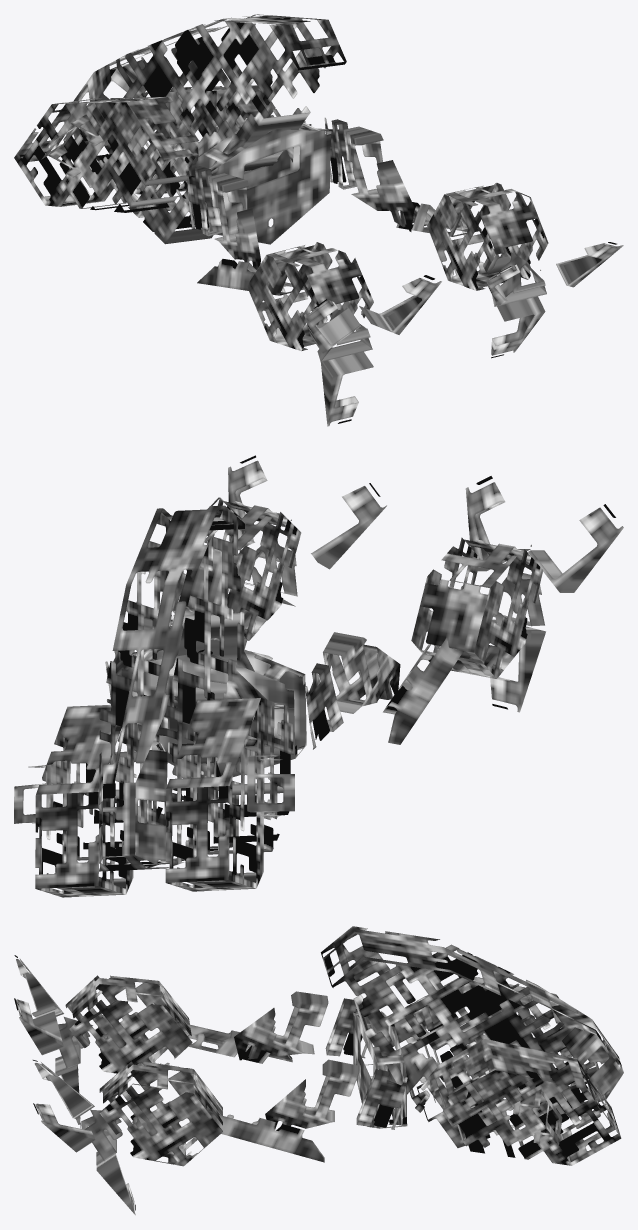
File: vulture_wreck_backward.glb
3 views of the same model, one above another, from view 1: azimuth 30°, elevation 25°; view 2: azimuth 150°, elevation 25°; view 3: azimuth 270°, elevation 25° (orthographic). The views are drawn at different scales.
Parts seen in each view (by area): view 1: joint_litoe; view 2: joint_litoe; view 3: joint_litoe.
Boxes of the visible parts, box(x1,y1,x2,y2) form: joint_litoe: box(14, 14, 623, 426); joint_litoe: box(14, 455, 623, 897); joint_litoe: box(14, 926, 623, 1215).
Bounding box in the file's own units: 6.68 × 5.12 × 11.8.
Materials: 1 (1 with a texture image).
